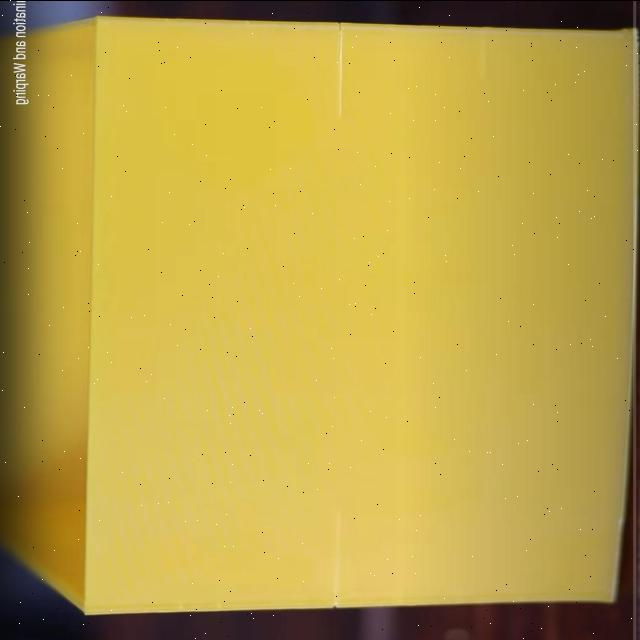cracking: (321, 16, 361, 142), (317, 494, 353, 622)
